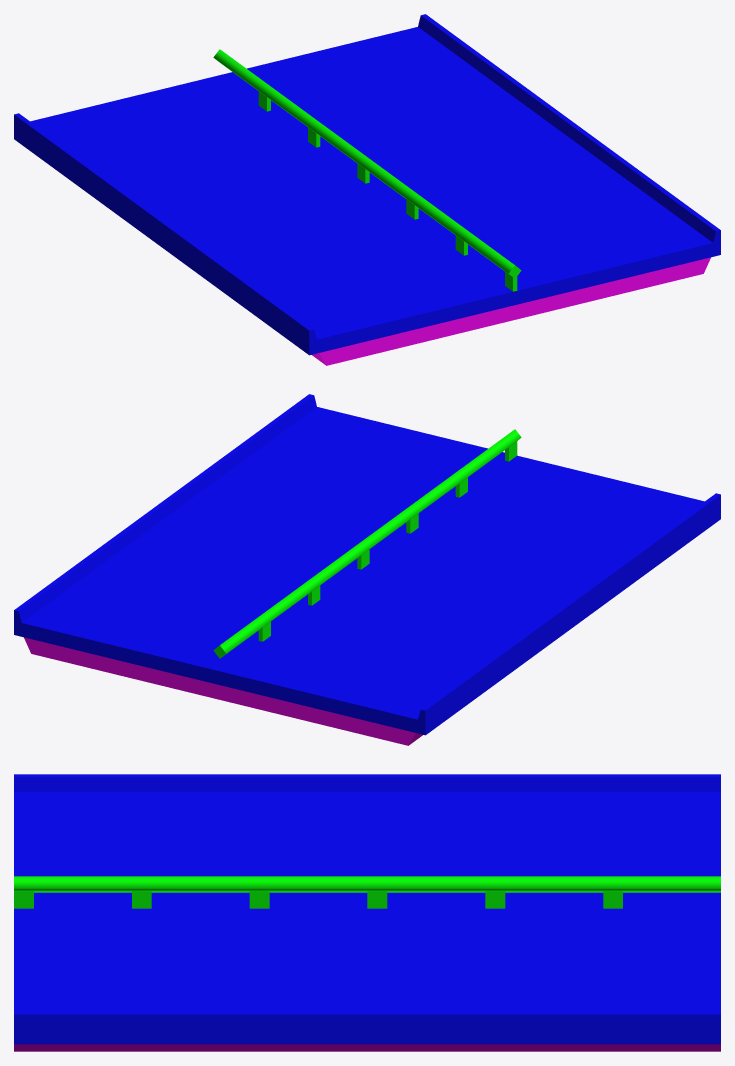
The model's file is ghost_train_track_mockup.fbx.
3 views of the same model, one above another, from view 1: azimuth 30°, elevation 25°; view 2: azimuth 150°, elevation 25°; view 3: azimuth 270°, elevation 25° (orthographic). The views are drawn at different scales.
Parts seen in each view (by area): view 1: ghost_train_track_mockup; view 2: ghost_train_track_mockup; view 3: ghost_train_track_mockup.
Part boxes in pixels (bbox=[...]): ghost_train_track_mockup: bbox=[14, 14, 720, 365]; ghost_train_track_mockup: bbox=[14, 394, 720, 745]; ghost_train_track_mockup: bbox=[14, 774, 720, 1051].
Size of the model in its own units: 0.8048 by 0.102 by 1.
